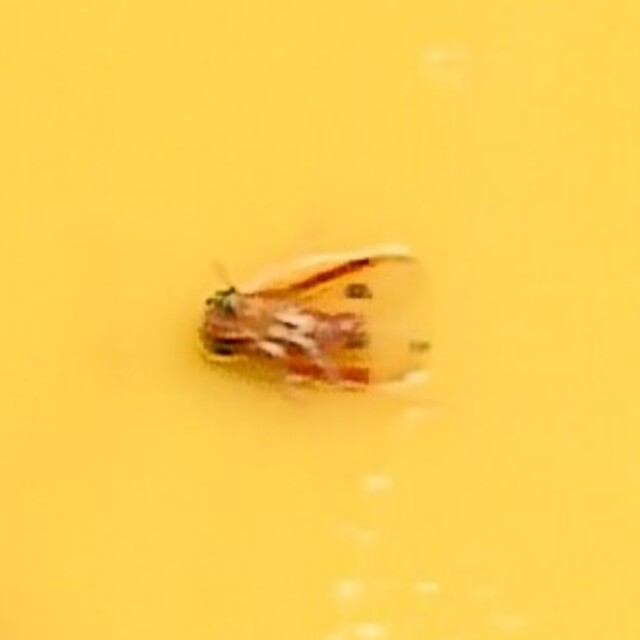Hemiptera: (199, 241, 441, 399)
